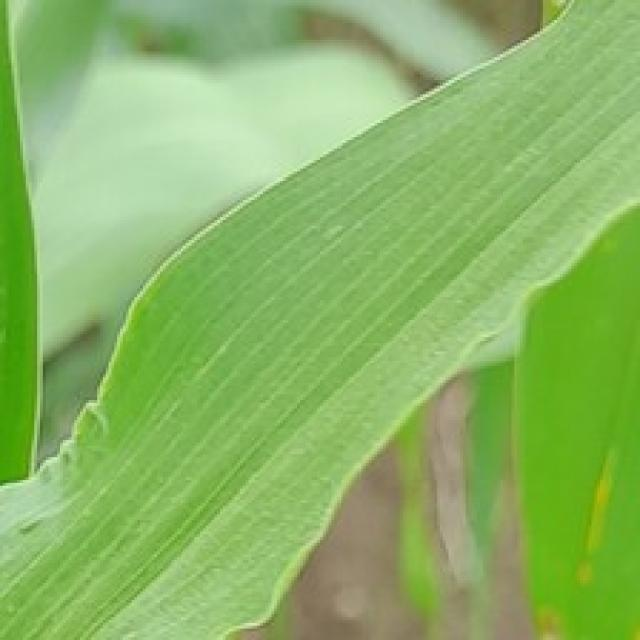Corn: (0, 0, 637, 637), (512, 174, 637, 637), (0, 0, 43, 497)
